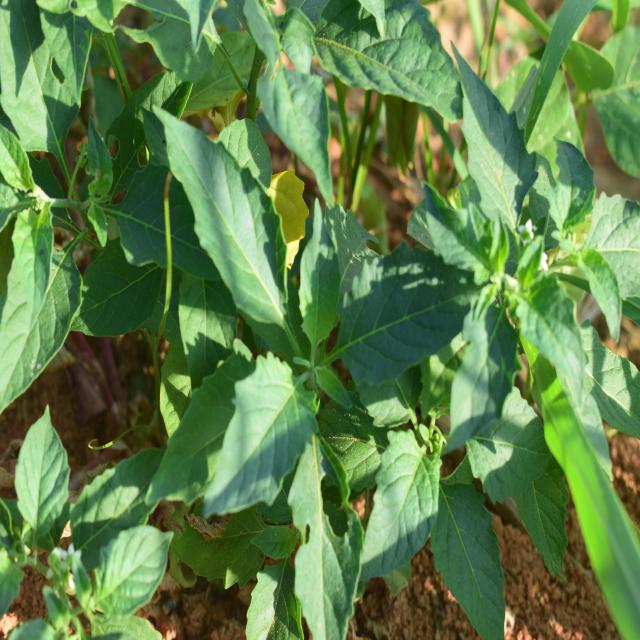Black_nightshade: (159, 136, 528, 625), (434, 56, 631, 480)
